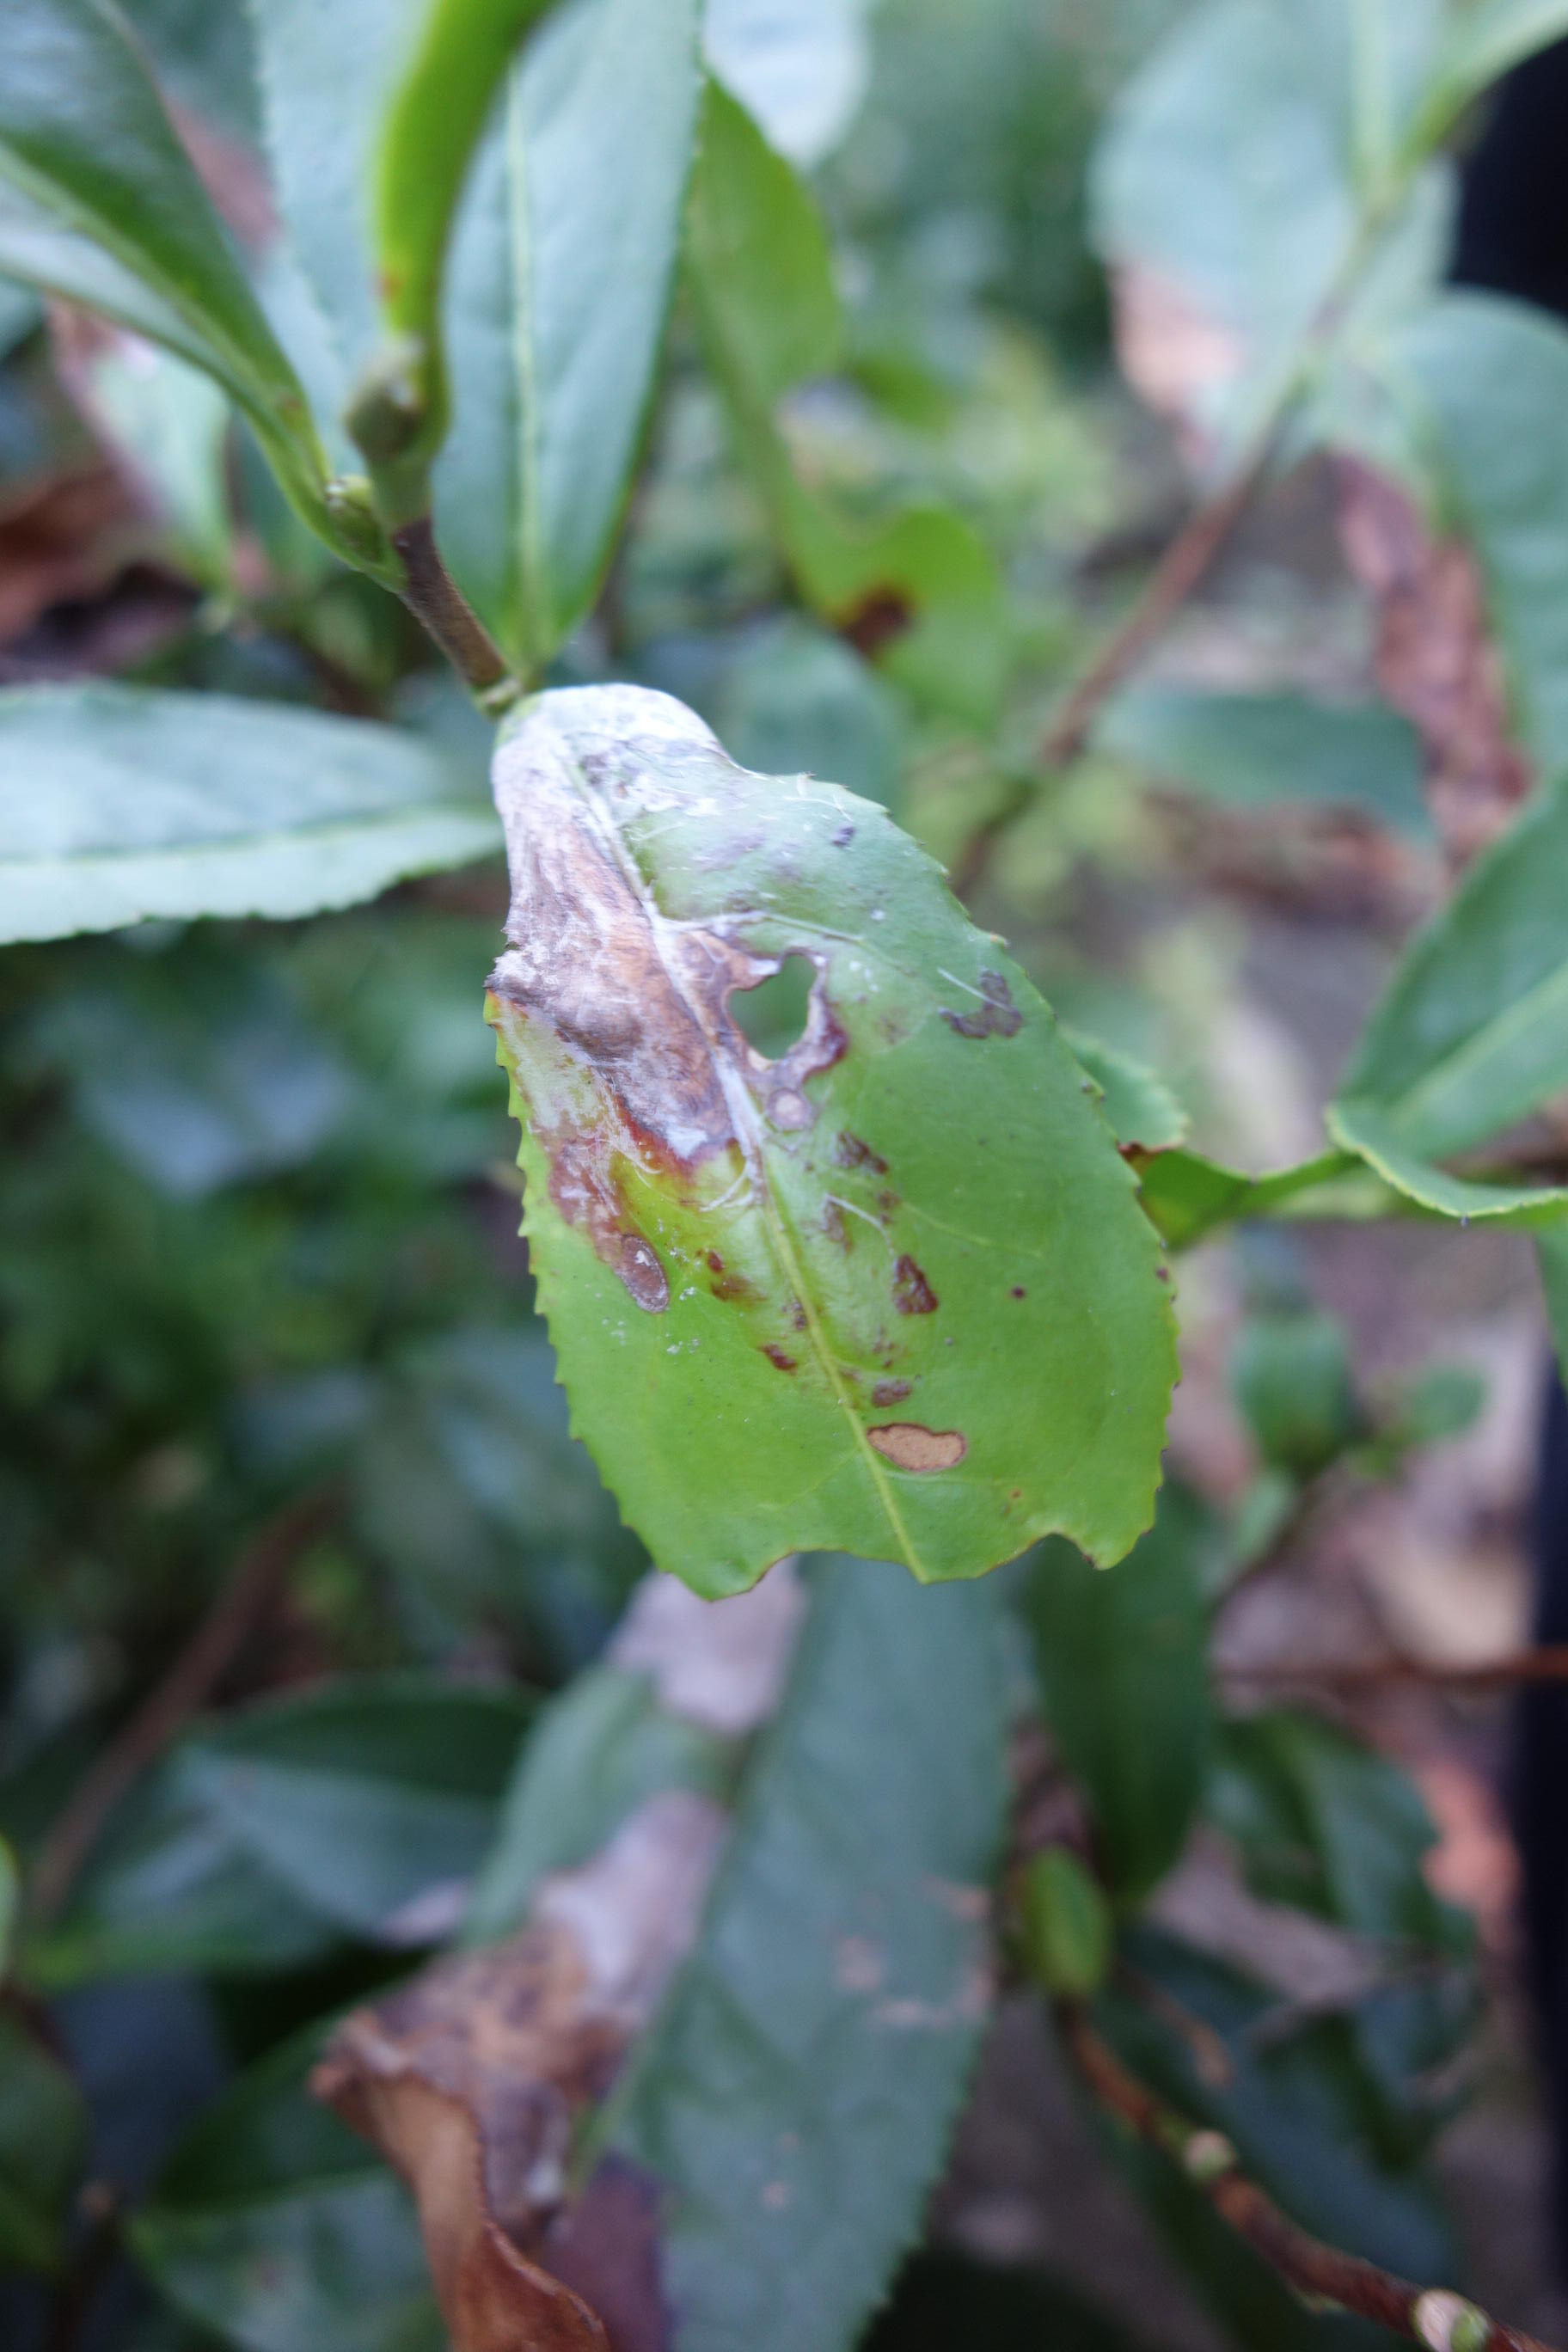tanju_high: (479, 667, 1186, 1606)
